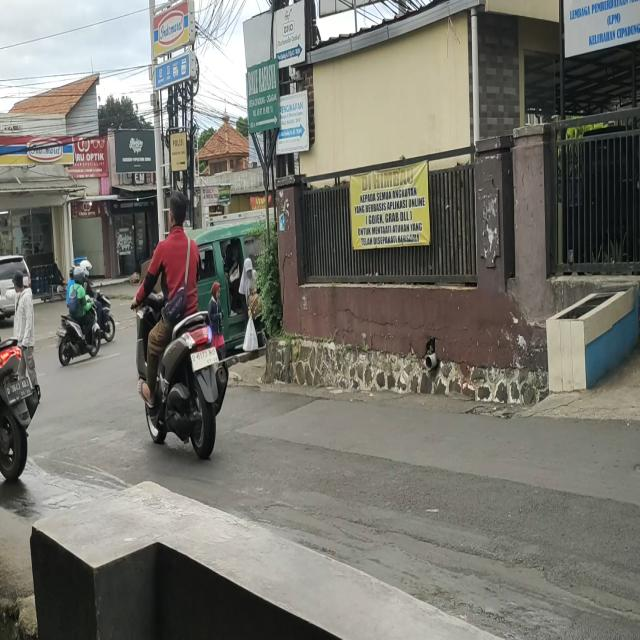helmet: (70, 262, 84, 286)
no-helmet: (168, 190, 190, 238)
